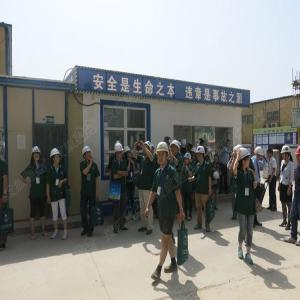none: (267, 147, 274, 160), (226, 138, 232, 150), (214, 154, 220, 165)
white: (156, 141, 171, 168), (237, 146, 251, 170), (82, 145, 94, 164), (169, 139, 181, 157), (254, 145, 265, 163), (51, 147, 61, 166), (32, 146, 42, 164), (114, 143, 124, 161), (142, 140, 152, 158), (196, 146, 206, 163), (281, 145, 291, 162), (123, 145, 133, 160), (184, 152, 192, 165)
